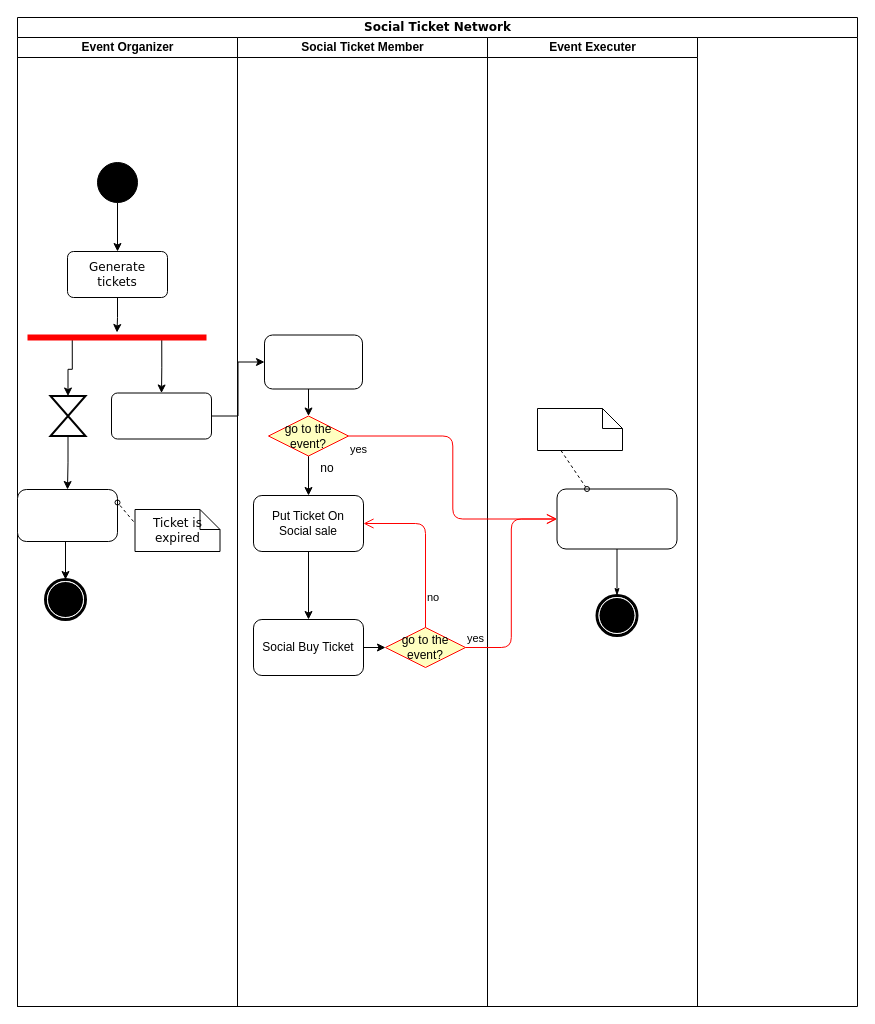
The diagram is 875 pixels wide and 1024 high, and some of its shapes have lost their labels. Here are the shapes that lost their labels. From the top down, the centre of each, then its label:
(x=313, y=361): Buy ticket
(x=161, y=415): Put ticket on sale
(x=579, y=429): Ticket is finished
(x=67, y=515): Expire Ticket
(x=616, y=518): Receive ticket
